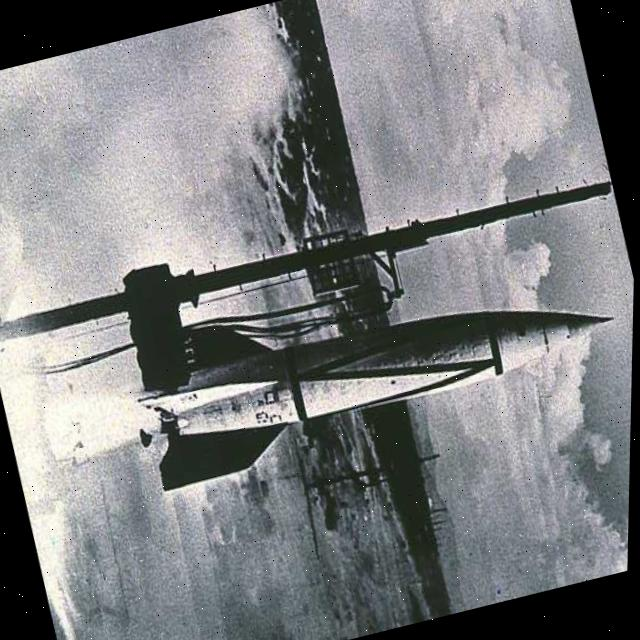missile: (112, 207, 636, 500)
